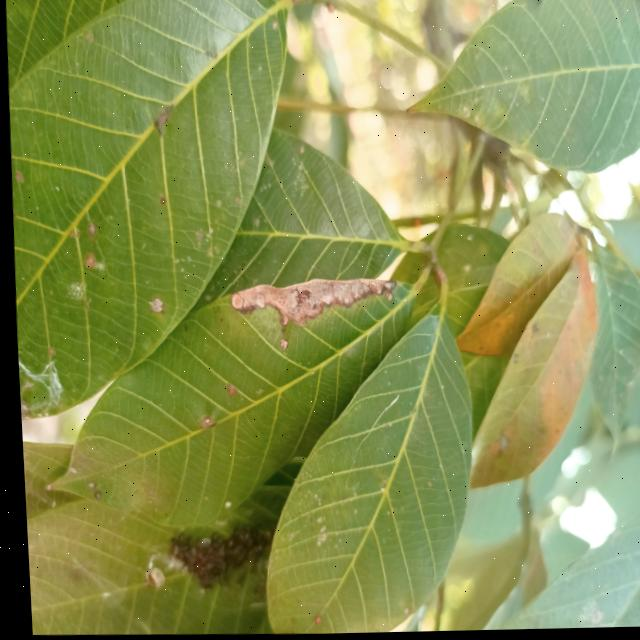Colletotrichum: (88, 490, 96, 500), (199, 417, 205, 423)
Leaf-Blight: (225, 275, 395, 333)
